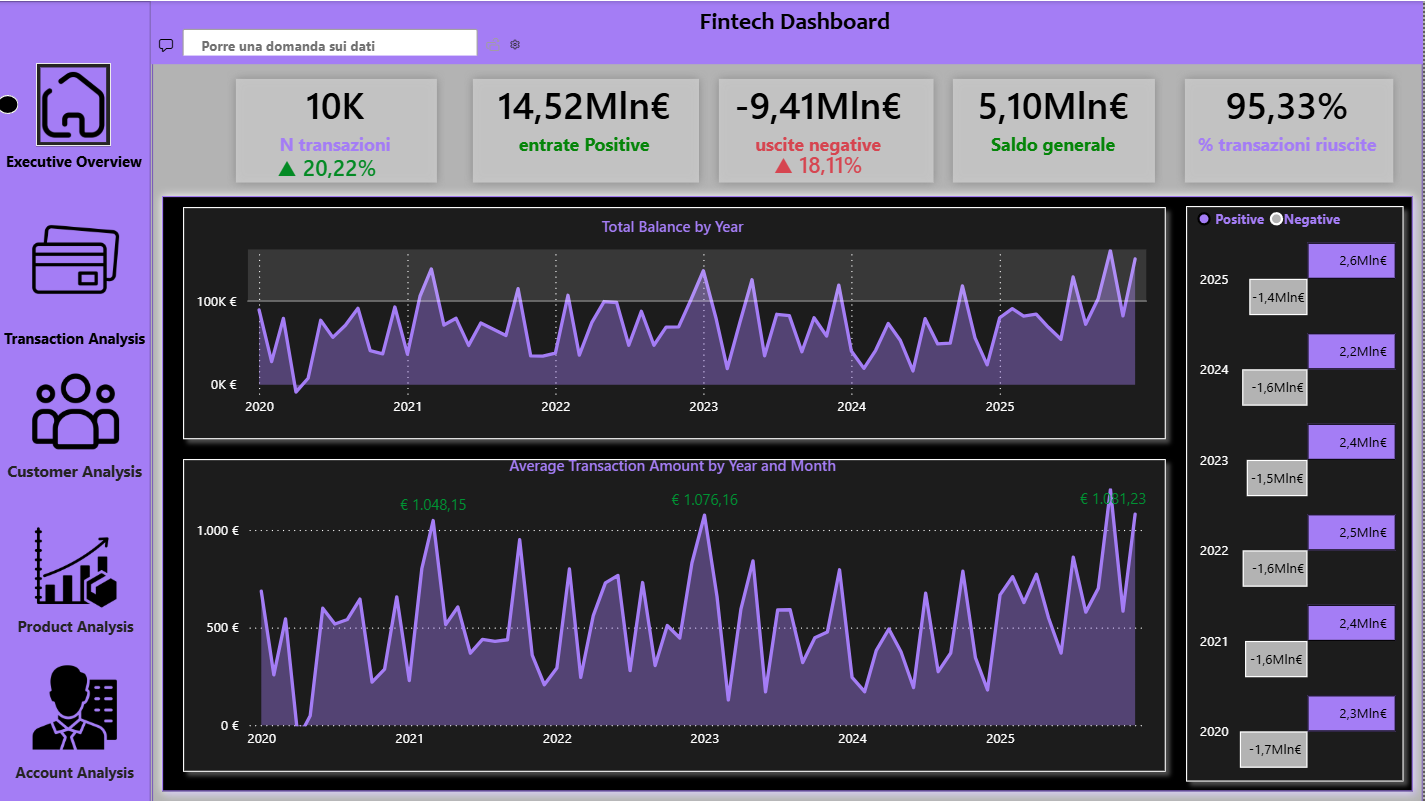

The dashboard page shown, as its layout file describes it:
{"tool":"powerbi","page":{"name":"Executive Overview","canvas":[1280,720],"ordinal":0},"visuals":[{"type":"shape","box":[640,62.1,202.3,123.1],"z":500},{"type":"shape","box":[139.1,0,1140.9,719.2],"z":1000},{"type":"shape","box":[206.8,62,196.4,109],"z":2000},{"type":"shape","box":[419.1,62,219,109],"z":2500},{"type":"shape","box":[0,0,138.1,719.2],"z":3000},{"type":"shape","box":[138.1,0,1141.9,56.7],"z":4000},{"type":"shape","box":[1058.2,62,203,109],"z":4500},{"type":"card","fields":{"Values":["Misure.N transazioni"]},"box":[203.7,49.6,199.4,108.7],"z":5000},{"type":"card","fields":{"Values":["Misure.% transazioni riuscite"]},"box":[1058.4,49.6,199.4,108.7],"z":6000},{"type":"shape","box":[640,62,208.6,109],"z":6250},{"type":"shape","box":[850.5,62,197.4,109],"z":6500},{"type":"card","fields":{"Values":["Misure.uscite negative"]},"box":[637.4,49.6,199.4,108.7],"z":7000},{"type":"card","fields":{"Values":["Misure.entrate Positive"]},"box":[427.4,49.6,199.4,108.7],"z":8000},{"type":"card","fields":{"Values":["Misure.Saldo generale"]},"box":[848.4,49.6,199.4,108.7],"z":9000},{"type":"shape","box":[139.1,166.3,1140.9,552.6],"z":10000},{"type":"shape","box":[1058.2,174.8,213.3,534.7],"z":11500},{"type":"shape","box":[157.9,175.7,900.3,226.5],"z":12250},{"type":"clusteredBarChart","fields":{"Category":["calendario.Date.Variazione.Gerarchia data.Anno"],"Y":["Misure.entrate Positive","Misure.uscite negative"]},"box":[1073.2,175.7,188,525.3],"z":13000},{"type":"lineChart","title":"Total Balance by Year","fields":{"Category":["calendario.Date.Variazione.Gerarchia data.Anno","calendario.Date.Variazione.Gerarchia data.Mese"],"Y":["Misure.Saldo generale"]},"box":[172.9,192.7,866.5,188.9],"z":14000},{"type":"textbox","box":[619.7,0,193.7,49.2],"z":15000},{"type":"shape","box":[157.9,402.2,900.3,298.9],"z":15500},{"type":"qnaVisual","box":[135.9,0,344.6,49.2],"z":16000},{"type":"shape","box":[0,84.5,19.3,17.1],"z":17000},{"type":"lineChart","title":"Average Transaction Amount by Year and Month","fields":{"Category":["calendario.Date.Variazione.Gerarchia data.Anno","calendario.Date.Variazione.Gerarchia data.Mese"],"Y":["Misure.valore medio transazione"]},"box":[172.9,407.9,866.5,272.5],"z":18000},{"type":"textbox","box":[0,130.6,138.1,35.3],"z":19000},{"type":"textbox","box":[0,289,139.1,31],"z":20000},{"type":"textbox","box":[0,407.8,139.1,31],"z":21000},{"type":"image","box":[35.3,55.7,67.4,74.9],"z":22000},{"type":"image","box":[30,329.6,81.3,78.1],"z":23000},{"type":"image","box":[30,469.8,81.3,78.1],"z":24000},{"type":"image","box":[28.9,595.1,81.3,78.1],"z":25000},{"type":"image","box":[30,192.6,81.3,78.1],"z":26000},{"type":"card","fields":{"Values":["Misure.Uscite YoY KPI"]},"box":[632.5,110,208.6,77.1],"z":27000},{"type":"card","fields":{"Values":["Misure.Transazioni KPI"]},"box":[246.2,130.6,100.6,40.4],"z":28000},{"type":"textbox","box":[1.1,548,139.1,31],"z":28001},{"type":"textbox","box":[0,678.5,139.1,31],"z":28002}]}

Visuals, with their boxes on the page's 1280x720 design canvas (x1, y1, x2, y2). These are canvas units, not pixel positions in the 1425x801 screenshot, which may show the page scaled, cropped or inside an application window:
shape: [left=640, top=62, right=842, bottom=185]
shape: [left=139, top=0, right=1280, bottom=719]
shape: [left=207, top=62, right=403, bottom=171]
shape: [left=419, top=62, right=638, bottom=171]
shape: [left=0, top=0, right=138, bottom=719]
shape: [left=138, top=0, right=1280, bottom=57]
shape: [left=1058, top=62, right=1261, bottom=171]
card - Misure.N transazioni: [left=204, top=50, right=403, bottom=158]
card - Misure.% transazioni riuscite: [left=1058, top=50, right=1258, bottom=158]
shape: [left=640, top=62, right=849, bottom=171]
shape: [left=850, top=62, right=1048, bottom=171]
card - Misure.uscite negative: [left=637, top=50, right=837, bottom=158]
card - Misure.entrate Positive: [left=427, top=50, right=627, bottom=158]
card - Misure.Saldo generale: [left=848, top=50, right=1048, bottom=158]
shape: [left=139, top=166, right=1280, bottom=719]
shape: [left=1058, top=175, right=1272, bottom=710]
shape: [left=158, top=176, right=1058, bottom=402]
clusteredBarChart - calendario.Date.Variazione.Gerarchia data.Anno x Misure.entrate Positive: [left=1073, top=176, right=1261, bottom=701]
"Total Balance by Year" lineChart: [left=173, top=193, right=1039, bottom=382]
textbox: [left=620, top=0, right=813, bottom=49]
shape: [left=158, top=402, right=1058, bottom=701]
qnaVisual: [left=136, top=0, right=480, bottom=49]
shape: [left=0, top=84, right=19, bottom=102]
"Average Transaction Amount by Year and Month" lineChart: [left=173, top=408, right=1039, bottom=680]
textbox: [left=0, top=131, right=138, bottom=166]
textbox: [left=0, top=289, right=139, bottom=320]
textbox: [left=0, top=408, right=139, bottom=439]
image: [left=35, top=56, right=103, bottom=131]
image: [left=30, top=330, right=111, bottom=408]
image: [left=30, top=470, right=111, bottom=548]
image: [left=29, top=595, right=110, bottom=673]
image: [left=30, top=193, right=111, bottom=271]
card - Misure.Uscite YoY KPI: [left=632, top=110, right=841, bottom=187]
card - Misure.Transazioni KPI: [left=246, top=131, right=347, bottom=171]
textbox: [left=1, top=548, right=140, bottom=579]
textbox: [left=0, top=678, right=139, bottom=710]
